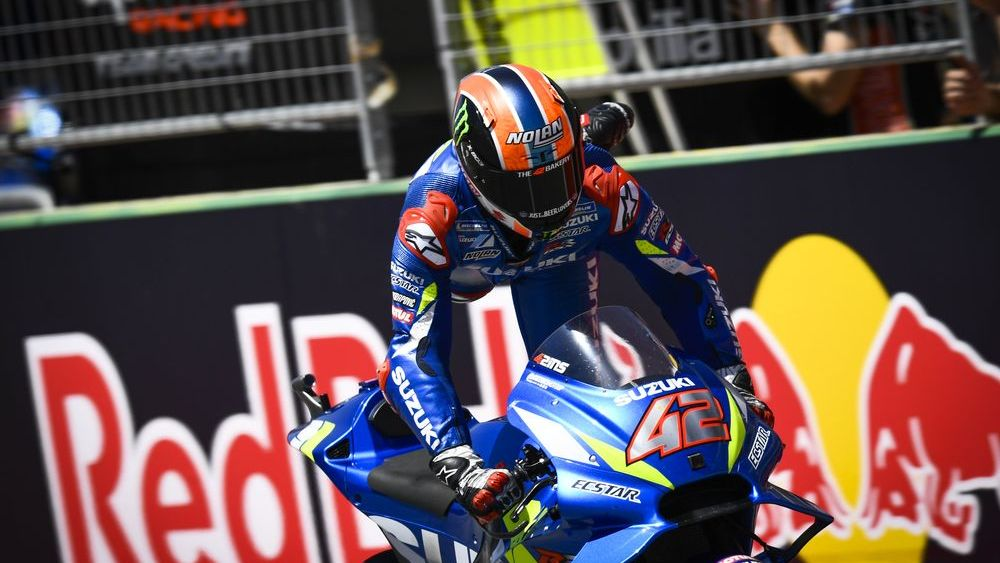helmet: (426, 56, 578, 245)
